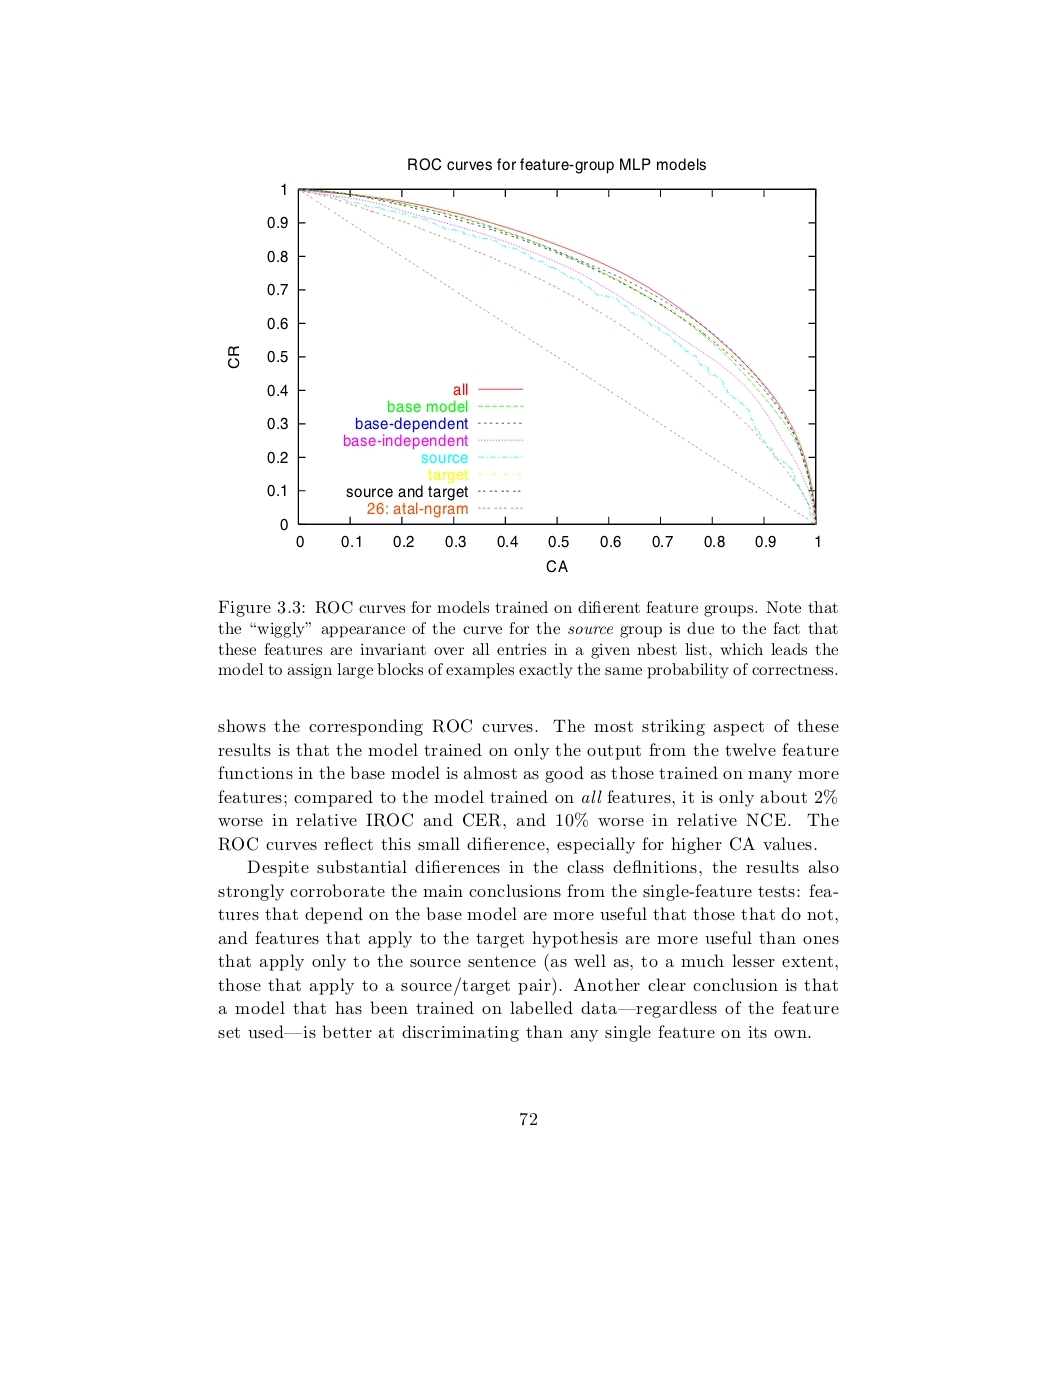figure: (228, 183, 819, 572)
